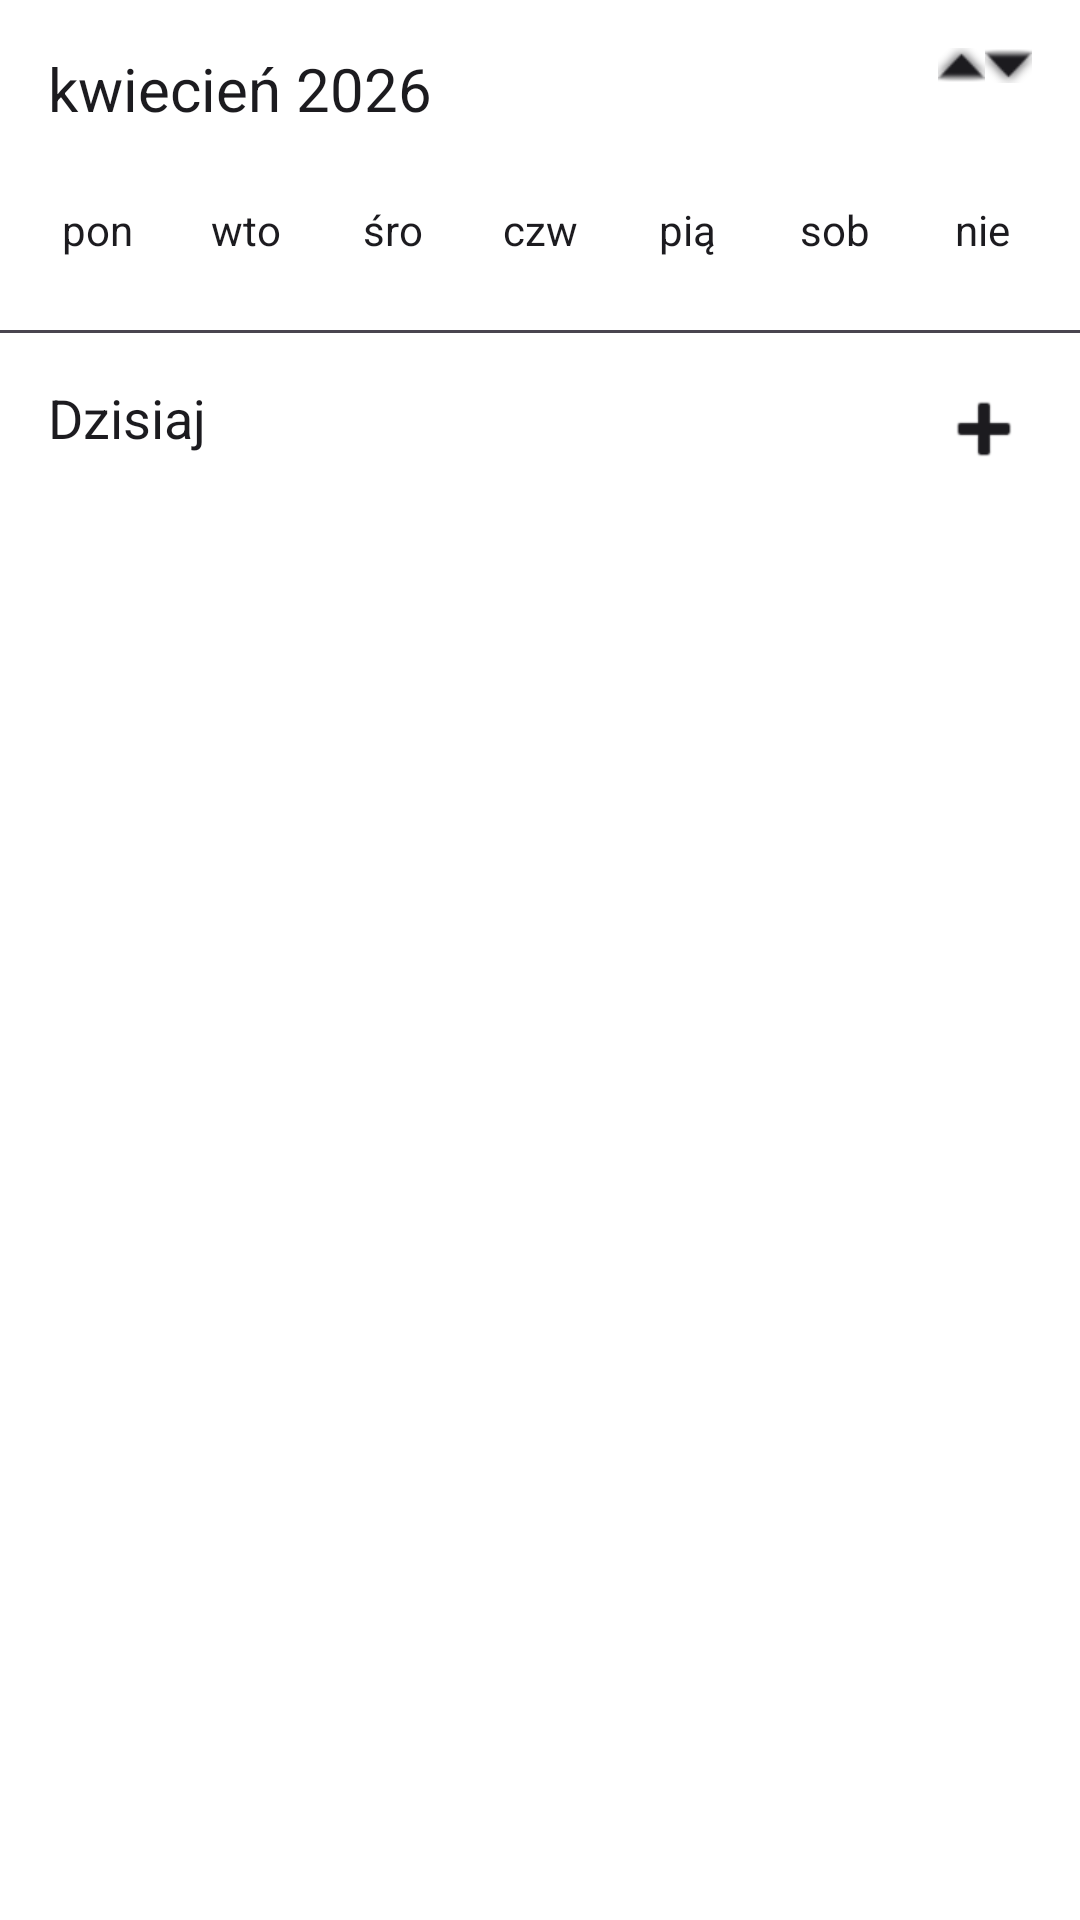

Point at icon controls on the screen. Image size 1080px×1920px, points as point (x, y).
add: point (984, 429)
arrow down float: point (1008, 66)
arrow up float: point (961, 65)
